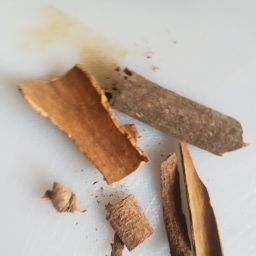Cinemon stick: (11, 55, 256, 256), (18, 65, 151, 191), (101, 60, 252, 160), (142, 131, 256, 256), (44, 167, 155, 256)
